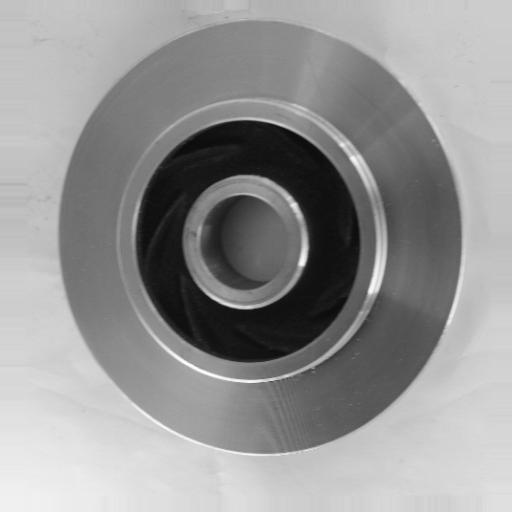polished_casting: (59, 20, 464, 459)
